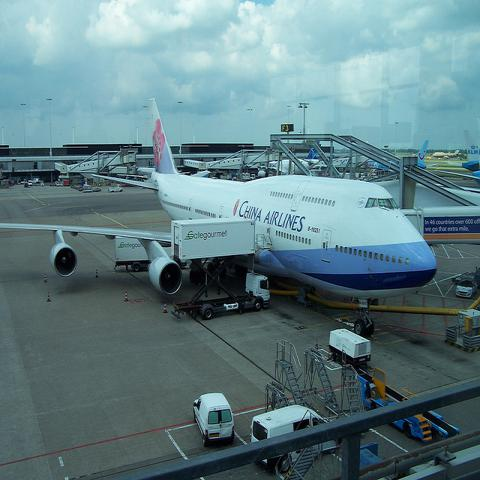car: (250, 404, 340, 472), (194, 391, 235, 447), (455, 274, 478, 299), (93, 187, 101, 192), (28, 181, 33, 186), (24, 183, 28, 188)
truck: (169, 272, 270, 320), (107, 183, 123, 192)
